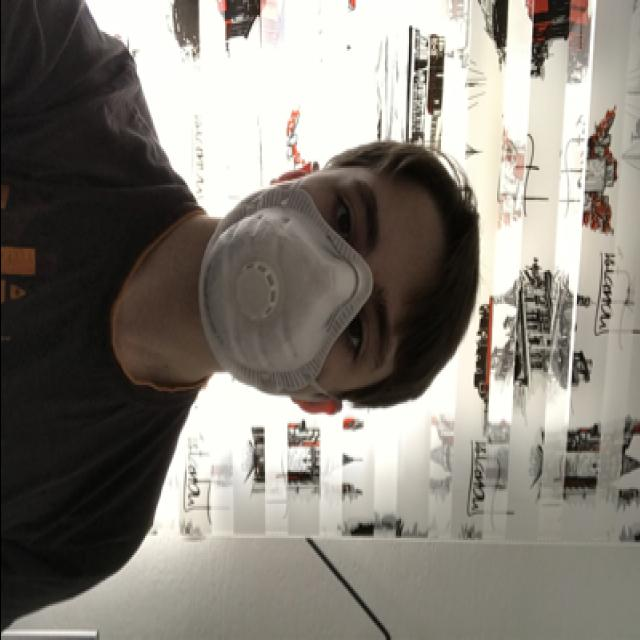with_mask: (198, 170, 412, 396)
